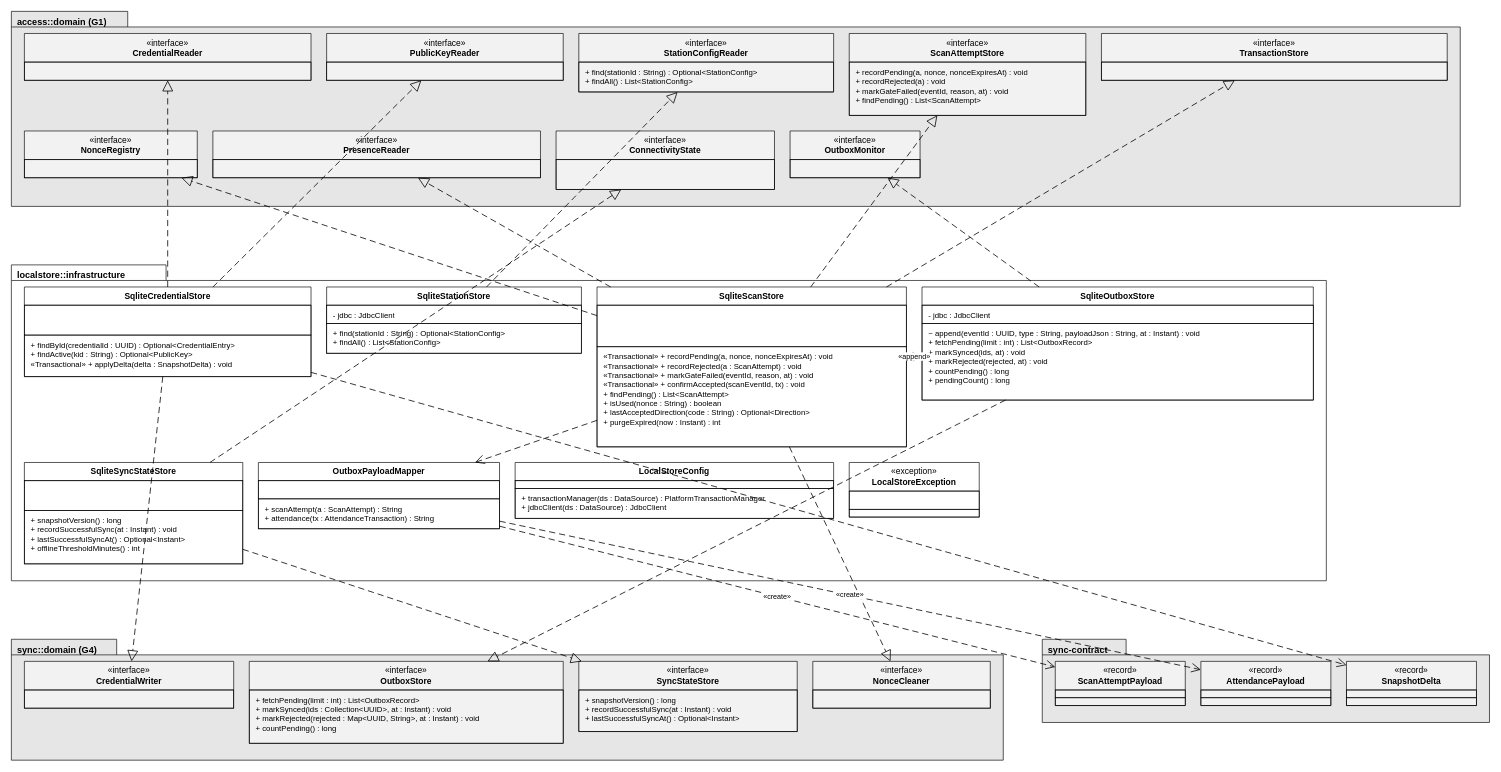
Image size: 1501x772. Some labels were removed from this diagram. The shapes that lost their labels are listed below. From the top down, each one's centre as x and y in pixels, then its label:
point (167, 70): + findById(credentialId : UUID) : Optional<CredentialEntry>
point (444, 70): + findActive(kid : String) : Optional<PublicKey>
point (1274, 70): + confirmAccepted(scanEventId : UUID, tx : AttendanceTransaction) : void
point (110, 168): + isUsed(nonce : String) : boolean
point (376, 168): + lastAcceptedDirection(employeeCode : String) : Optional<Direction>
point (664, 174): + lastSuccessfulSyncAt() : Optional<Instant> + offlineThresholdMinutes() : int
point (854, 168): + pendingCount() : long
point (167, 320): - jdbc : JdbcClient - clock : Clock
point (751, 326): - jdbc : JdbcClient - outbox : SqliteOutboxStore - mapper : OutboxPayloadMapper
point (133, 495): - jdbc : JdbcClient - defaultThreshold : Duration
point (379, 489): - json : ObjectMapper
point (914, 499): - operation : String
point (129, 698): + applyDelta(delta : SnapshotDelta) : void
point (901, 698): + purgeExpired(now : Instant) : int
